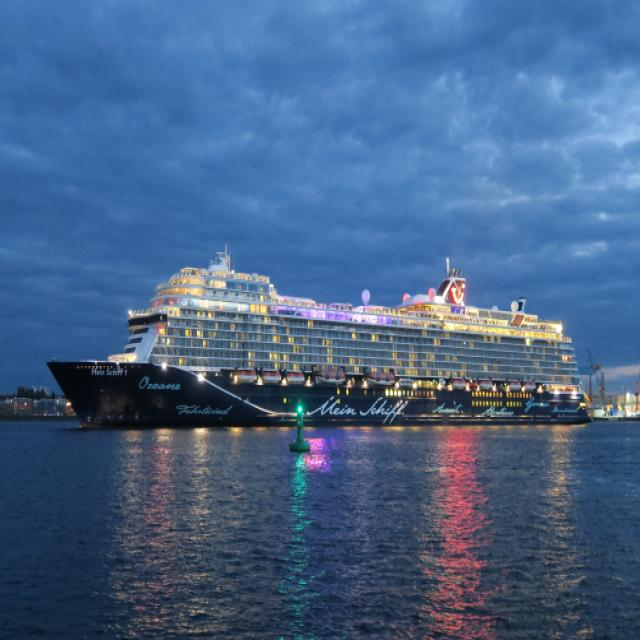cruises: (43, 242, 598, 438)
